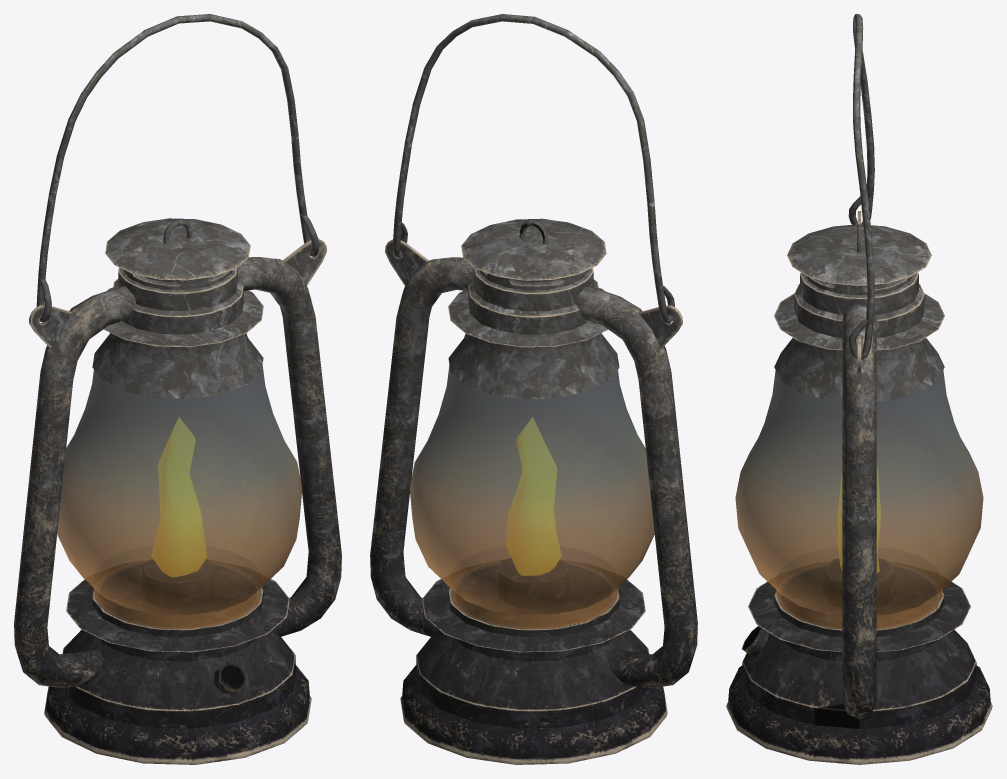
File: Lantern.glb
3 renders of one model, left to right at view 1: azimuth 30°, elevation 25°; view 2: azimuth 150°, elevation 25°; view 3: azimuth 270°, elevation 25°, orthographic.
Visible parts, largest first — view 1: LNT_Body, LNT_Glass, LNT_Fire, LNT_Handle; view 2: LNT_Body, LNT_Glass, LNT_Fire, LNT_Handle; view 3: LNT_Body, LNT_Glass, LNT_Handle, LNT_Fire.
Boxes of the visible parts, x1,y1,x2,y2 form: LNT_Body: (14,218,341,764); LNT_Glass: (57,365,302,629); LNT_Fire: (151,417,206,576); LNT_Handle: (36,14,319,322); LNT_Body: (370,218,697,764); LNT_Glass: (409,365,654,629); LNT_Fire: (506,417,561,575); LNT_Handle: (392,14,674,323); LNT_Body: (726,211,992,764); LNT_Glass: (735,370,983,629); LNT_Handle: (848,14,874,359); LNT_Fire: (837,469,880,572).
Size of the model in its own units: 2.17 by 4.42 by 1.56.
Materials: 1 (1 with a texture image).
